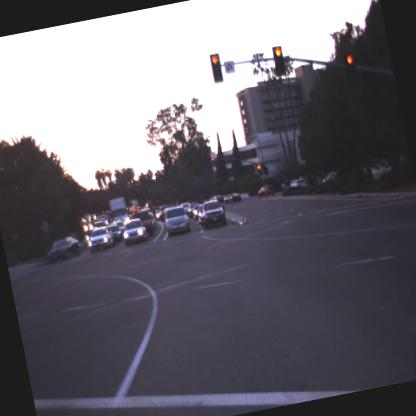trafficlight: (207, 50, 225, 86), (342, 44, 358, 80), (271, 43, 287, 77), (256, 162, 262, 176), (211, 156, 216, 168)
